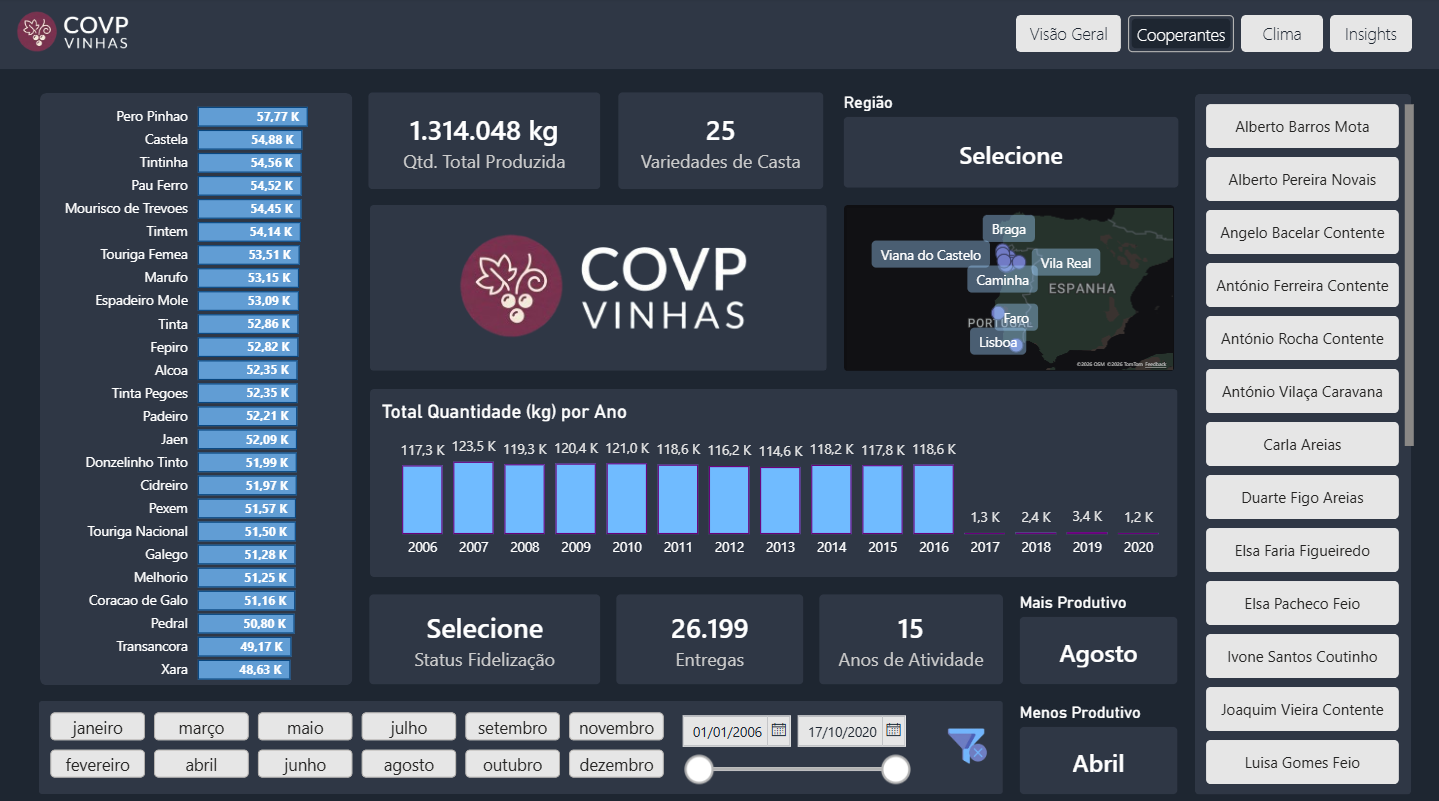

This screenshot's page, from the dashboard's own definition file:
{"tool":"powerbi","page":{"name":"Cooperantes","canvas":[1280,720],"ordinal":1},"visuals":[{"type":"group","id":"g1","title":"Grupo 2","box":[329.7,54.1,405,276.7],"z":0},{"type":"shape","box":[1061.2,84.6,191.7,621.4],"z":0,"group":"g5"},{"type":"shape","box":[750.5,183.7,292.7,147.4],"z":0,"group":"g3"},{"type":"shape","box":[329.7,183.8,405,147],"z":0,"group":"g1"},{"type":"shape","box":[330,346.7,716.2,166.7],"z":0,"group":"g2"},{"type":"shape","box":[36.3,623.8,854.6,82.5],"z":0,"group":"g4"},{"type":"group","id":"g2","title":"Grupo 1","box":[330,346.7,723,166.7],"z":500},{"type":"group","id":"g3","title":"Grupo 3","box":[747.5,181,298.8,154],"z":750},{"type":"cardVisual","fields":{"Data":["Medida.Foto Dinamica"]},"box":[333.4,54.1,398.1,273.1],"z":1000,"group":"g1"},{"type":"advancedSlicerVisual","fields":{"Values":["Cooperantes.Nome"]},"box":[1061.4,84,204.8,625.1],"z":1000,"group":"g5"},{"type":"azureMap","fields":{"Category":["Cooperantes.Morada"]},"box":[747.5,181,298.8,154],"z":1000,"group":"g3"},{"type":"columnChart","fields":{"Category":["Calendario.Date.Variação.Hierarquia de Datas.Ano"],"Y":["Medida.Total Quantidade (kg)"]},"box":[335.7,356.4,717.3,148.9],"z":1000,"group":"g2"},{"type":"group","id":"g4","title":"Grupo 4","box":[36.3,623.8,854.6,82.5],"z":1000},{"type":"advancedSlicerVisual","fields":{"Values":["Calendario.Date.Variação.Hierarquia de Datas.Mês"]},"box":[36.3,623.8,568.8,79.6],"z":1000,"group":"g4"},{"type":"slicer","fields":{"Values":["Calendario.Date"]},"box":[594.1,626.7,223.9,74.8],"z":2000,"group":"g4"},{"type":"group","id":"g5","title":"Grupo 5","box":[1061.2,84,205,625.1],"z":3000},{"type":"image","box":[841.2,646.9,36.2,34],"z":3000,"group":"g4"},{"type":"group","id":"g6","title":"Grupo 6","box":[37,75.6,277.4,542.3],"z":4000},{"type":"shape","box":[37,84.6,277,525.2],"z":4000,"group":"g6"},{"type":"actionButton","box":[835.3,639,48,48.5],"z":4000,"group":"g4"},{"type":"shape","box":[0,0,1280,63],"z":5000},{"type":"image","box":[0,7.8,133.3,45.7],"z":6000},{"type":"actionButton","box":[1181.1,15.1,72.7,32.8],"z":7000},{"type":"actionButton","box":[1102.2,15.1,72.7,32.8],"z":8000},{"type":"actionButton","box":[1002,15.1,94,32.8],"z":9000},{"type":"actionButton","box":[902.7,15.1,93.1,32.8],"z":10000},{"type":"cardVisual","fields":{"Data":["_Medida.Total Quantidade (kg)"]},"box":[311.1,66.7,240,120],"z":11000},{"type":"cardVisual","fields":{"Data":["Count(TodosCooperantes.Casta)"]},"box":[533.3,66.7,216.7,120],"z":12000},{"type":"cardVisual","title":"Menos Produtivo","fields":{"Data":["Min(Calendario.Mês Completo)"]},"box":[901,625,150,86],"z":13000},{"type":"cardVisual","title":"Mais Produtivo","fields":{"Data":["Min(Calendario.Mês Completo)"]},"box":[901,528,150,86],"z":14000},{"type":"cardVisual","title":"Entregas Feitas","fields":{"Data":["CountNonNull(TodosCooperantes.DataEntrega)"]},"box":[531,512,200,114],"z":15000},{"type":"cardVisual","title":"Região","fields":{"Data":["Medida.Medida Regiao"]},"box":[745,84,307,89],"z":16000},{"type":"clusteredBarChart","fields":{"Category":["TodosCooperantes.Casta"],"Y":["Medida.Total Quantidade (kg)"]},"box":[45.2,75.6,269.2,542.3],"z":17000,"group":"g6"},{"type":"cardVisual","fields":{"Data":["_Medida.Anos de Atividade"]},"box":[711,512,197,114],"z":18000},{"type":"cardVisual","fields":{"Data":["_Medida.Status Fidelização"]},"box":[312.2,512,239,114],"z":19000}]}

Visuals, with their boxes in screenshot pixels (x1, y1, x2, y2), scaled from the page's 1280x720 canvas onto the 1439x801 screenshot:
"Grupo 2" group: [left=371, top=60, right=826, bottom=368]
shape: [left=1193, top=94, right=1409, bottom=785]
shape: [left=844, top=204, right=1173, bottom=368]
shape: [left=371, top=204, right=826, bottom=368]
shape: [left=371, top=386, right=1176, bottom=571]
shape: [left=41, top=694, right=1002, bottom=786]
"Grupo 1" group: [left=371, top=386, right=1184, bottom=571]
"Grupo 3" group: [left=840, top=201, right=1176, bottom=373]
cardVisual - Medida.Foto Dinamica: [left=375, top=60, right=822, bottom=364]
advancedSlicerVisual - Cooperantes.Nome: [left=1193, top=93, right=1423, bottom=789]
azureMap - Cooperantes.Morada: [left=840, top=201, right=1176, bottom=373]
columnChart - Calendario.Date.Variação.Hierarquia de Datas.Ano x Medida.Total Quantidade (kg): [left=377, top=396, right=1184, bottom=562]
"Grupo 4" group: [left=41, top=694, right=1002, bottom=786]
advancedSlicerVisual - Calendario.Date.Variação.Hierarquia de Datas.Mês: [left=41, top=694, right=680, bottom=783]
slicer - Calendario.Date: [left=668, top=697, right=920, bottom=780]
"Grupo 5" group: [left=1193, top=93, right=1423, bottom=789]
image: [left=946, top=720, right=986, bottom=758]
"Grupo 6" group: [left=42, top=84, right=353, bottom=687]
shape: [left=42, top=94, right=353, bottom=678]
actionButton: [left=939, top=711, right=993, bottom=765]
shape: [left=0, top=0, right=1438, bottom=70]
image: [left=0, top=9, right=150, bottom=60]
actionButton: [left=1328, top=17, right=1410, bottom=53]
actionButton: [left=1239, top=17, right=1321, bottom=53]
actionButton: [left=1126, top=17, right=1232, bottom=53]
actionButton: [left=1015, top=17, right=1119, bottom=53]
cardVisual - _Medida.Total Quantidade (kg): [left=350, top=74, right=620, bottom=208]
cardVisual - Count(TodosCooperantes.Casta): [left=600, top=74, right=843, bottom=208]
"Menos Produtivo" cardVisual: [left=1013, top=695, right=1182, bottom=791]
"Mais Produtivo" cardVisual: [left=1013, top=587, right=1182, bottom=683]
"Entregas Feitas" cardVisual: [left=597, top=570, right=822, bottom=696]
"Região" cardVisual: [left=838, top=93, right=1183, bottom=192]
clusteredBarChart - TodosCooperantes.Casta x Medida.Total Quantidade (kg): [left=51, top=84, right=353, bottom=687]
cardVisual - _Medida.Anos de Atividade: [left=799, top=570, right=1021, bottom=696]
cardVisual - _Medida.Status Fidelização: [left=351, top=570, right=620, bottom=696]
